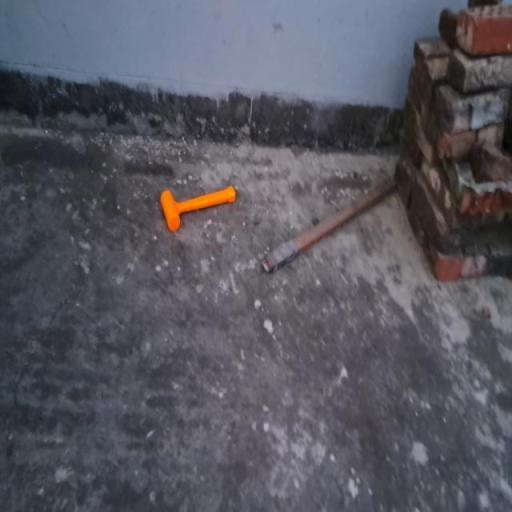mallet: (160, 185, 236, 231)
